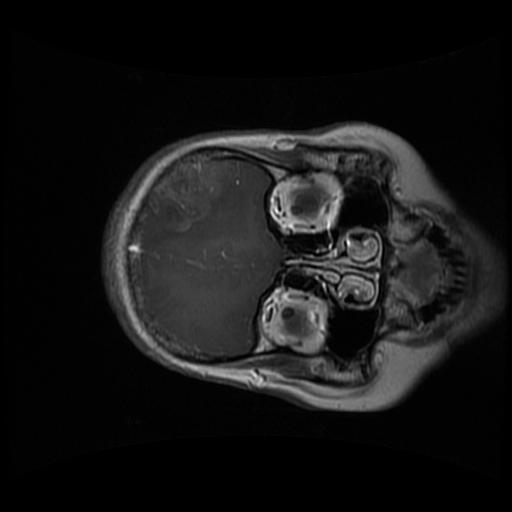glioma: (144, 149, 242, 238)
